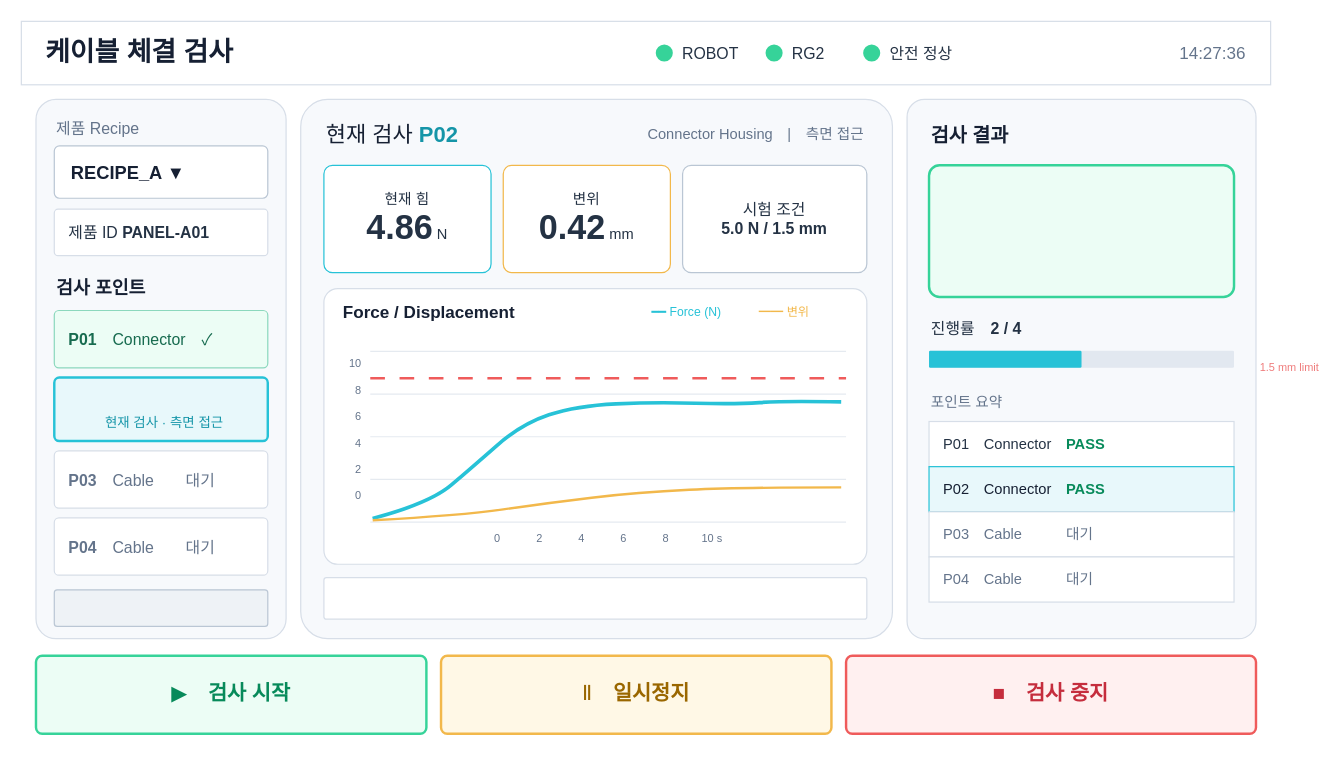
Image size: 1341x775. Some labels were removed from this diagram. Each missing label, with the box of its shape:
14:27:36 P02 Pull Test 완료 - 기준 이내: (323, 576, 867, 619)
P02 Connector: (52, 376, 268, 442)
PASS: (927, 163, 1235, 298)
Recipe 설정: (53, 589, 268, 626)
